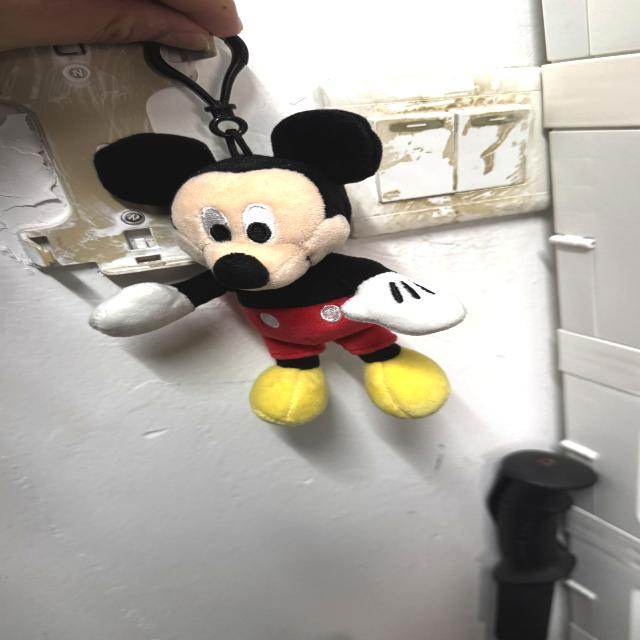mickey: (91, 110, 465, 425)
